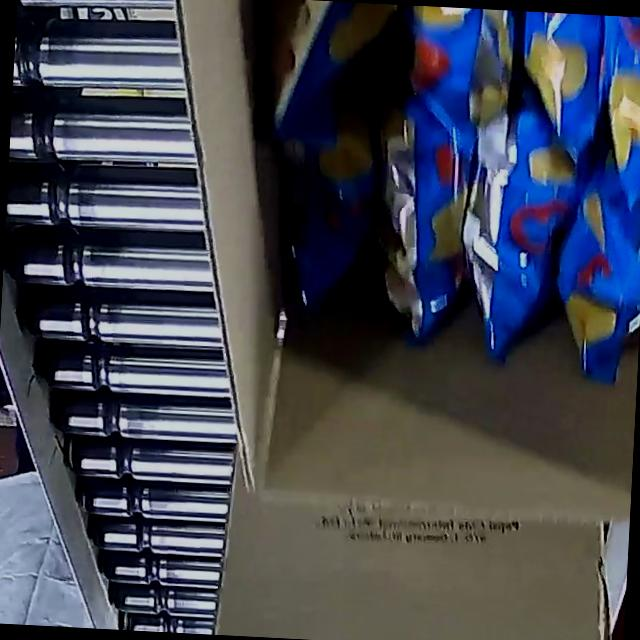paprika: (248, 0, 640, 387)
